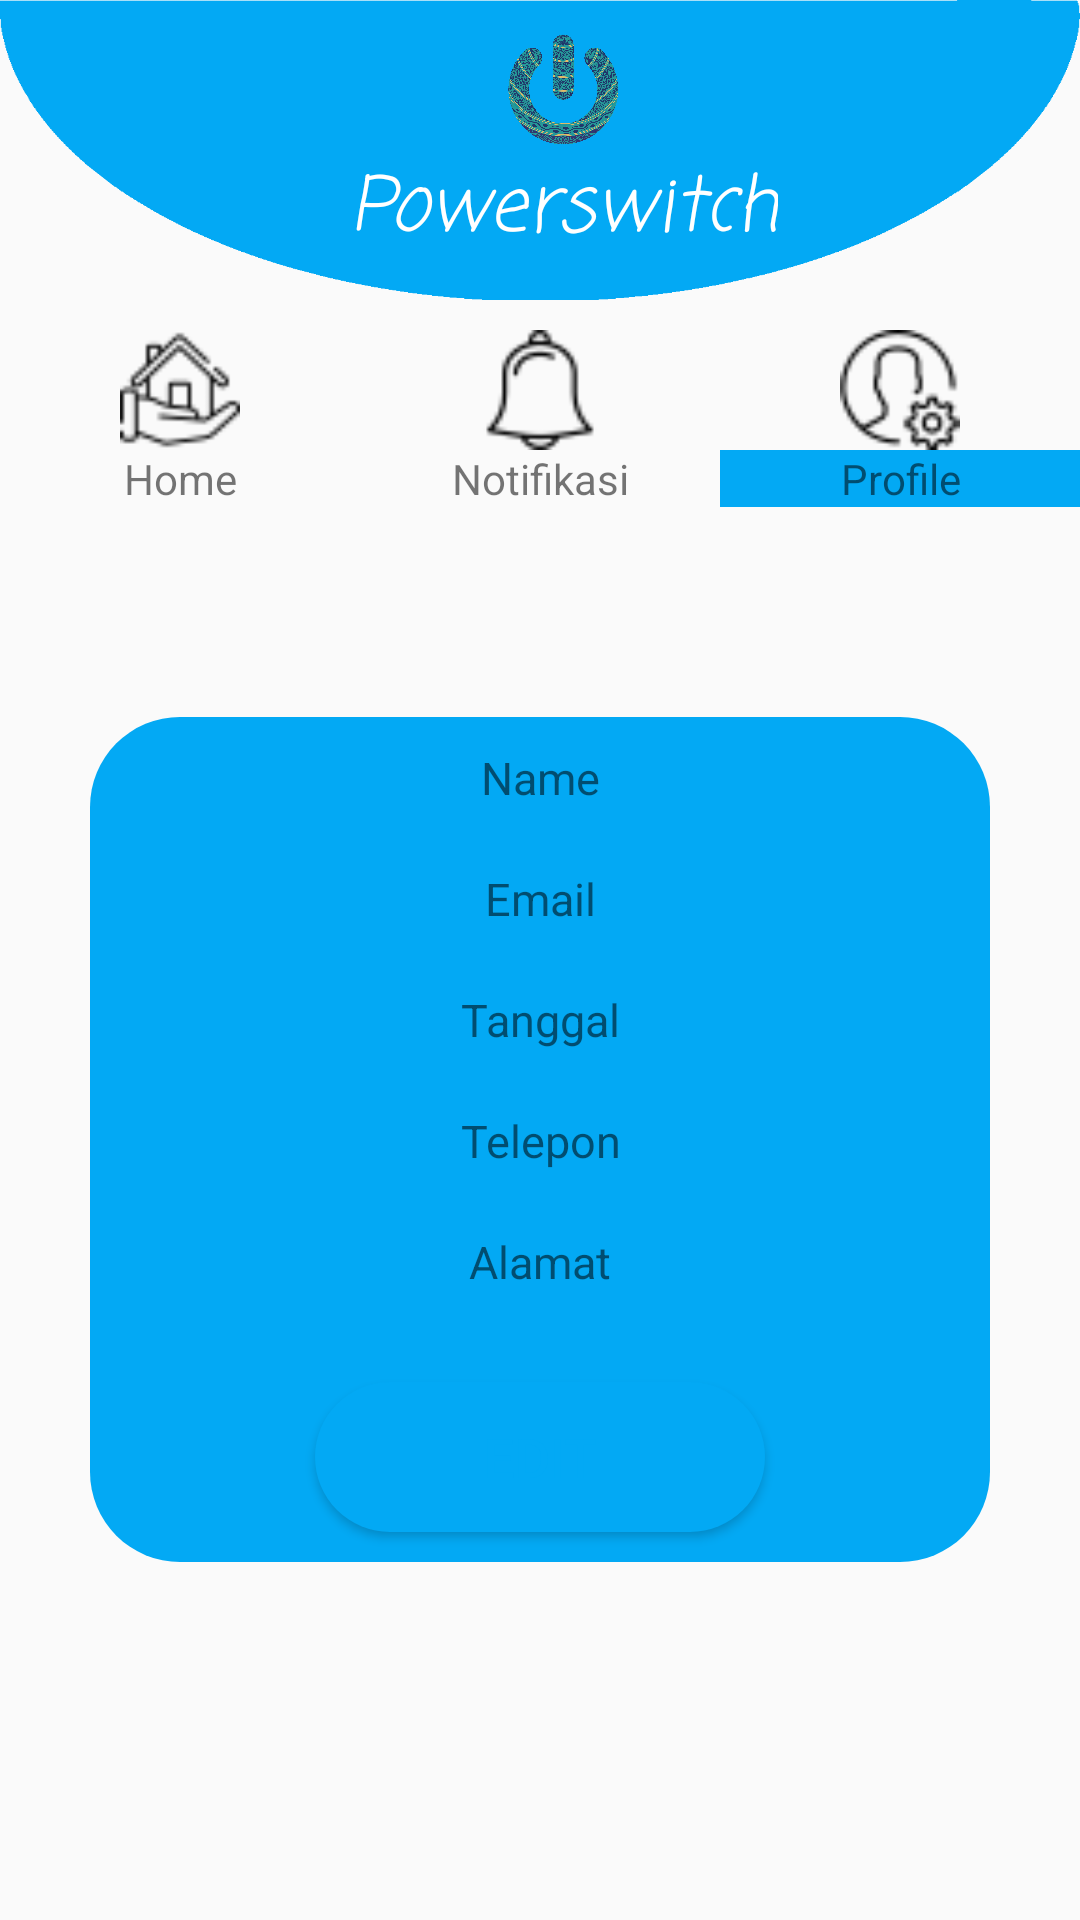

Named icons in this screenshot (1080x1920) and their bounding boxes, (x1, y1, x2, y2):
alarm: (486, 330, 594, 450)
user: (840, 330, 957, 447)
